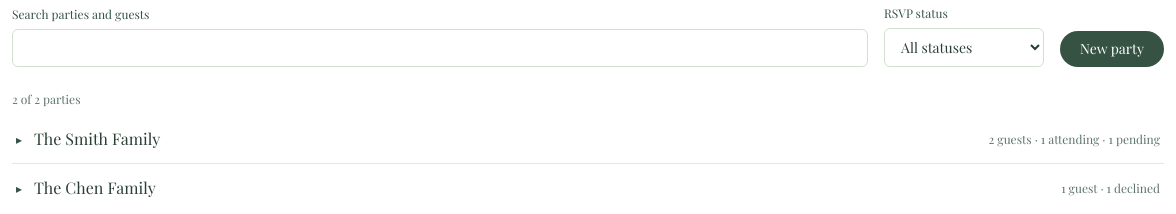
Test case: PartyManager › filters by the search box across party and guest names
Expected: the text "The Smith Family" is shown, 34,127 -> 160,151
Type "wei" into the search field labelled "Search parties and guests".
click(440, 48); type("wei")  # box 12,29 -> 868,67
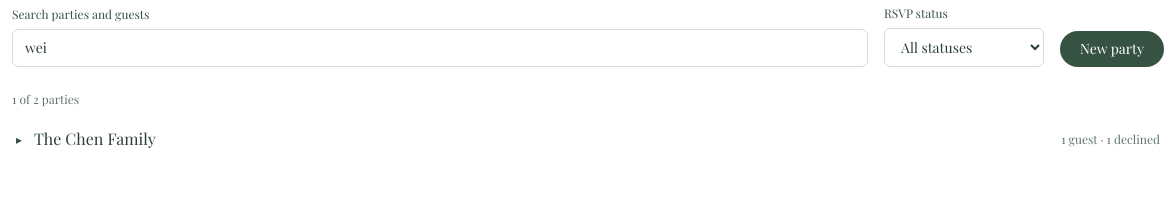
Expected: the text "The Chen Family" is shown, 34,127 -> 156,151
Result: the button "The Smith Family" is gone
